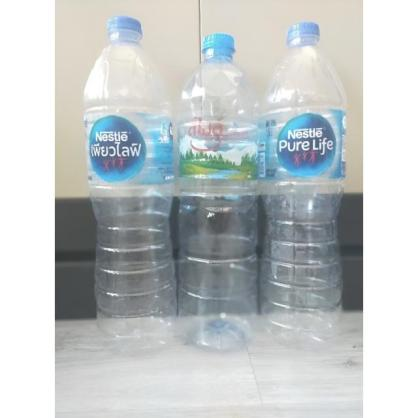bottle: (80, 13, 176, 348), (258, 23, 346, 347), (178, 32, 258, 350)
cap: (202, 33, 236, 61), (106, 16, 143, 40), (286, 22, 320, 47)
label: (83, 113, 174, 188), (262, 107, 345, 183), (183, 119, 256, 192)
